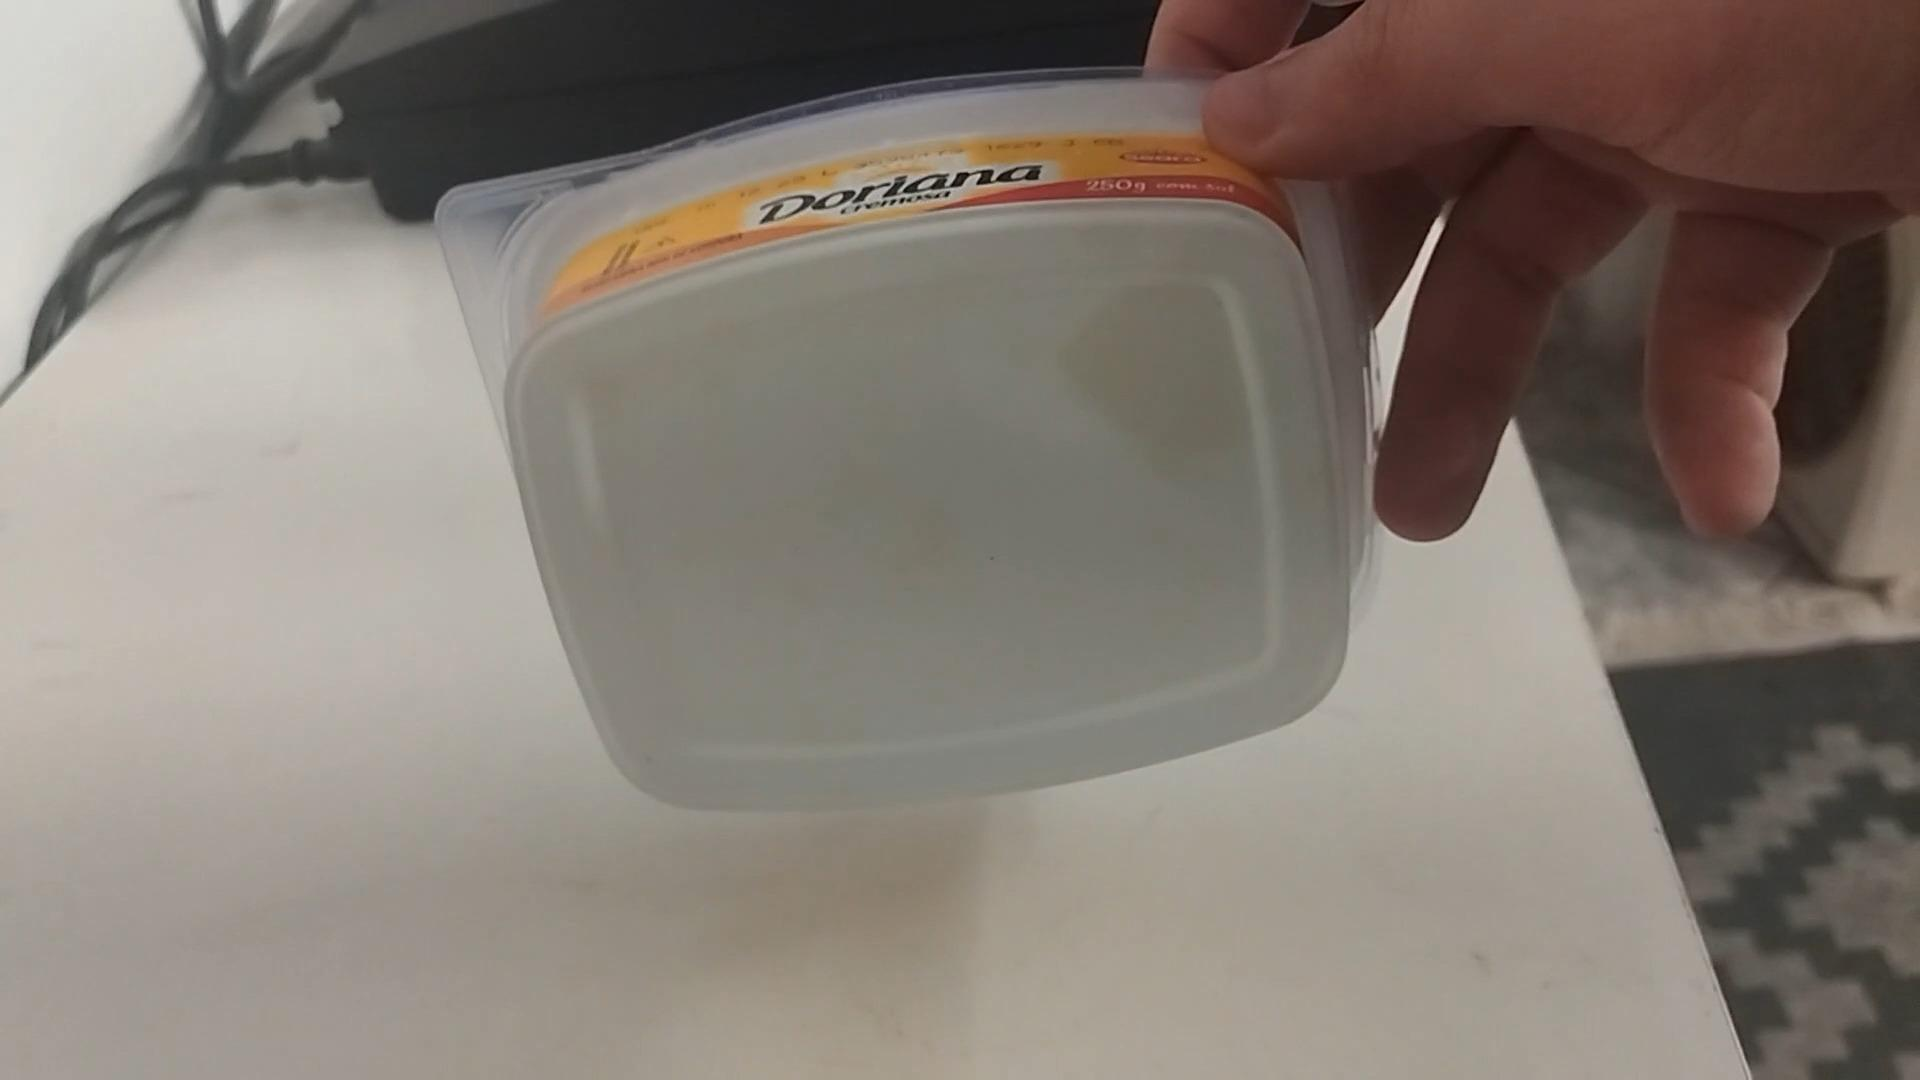butter: (437, 70, 1383, 811)
